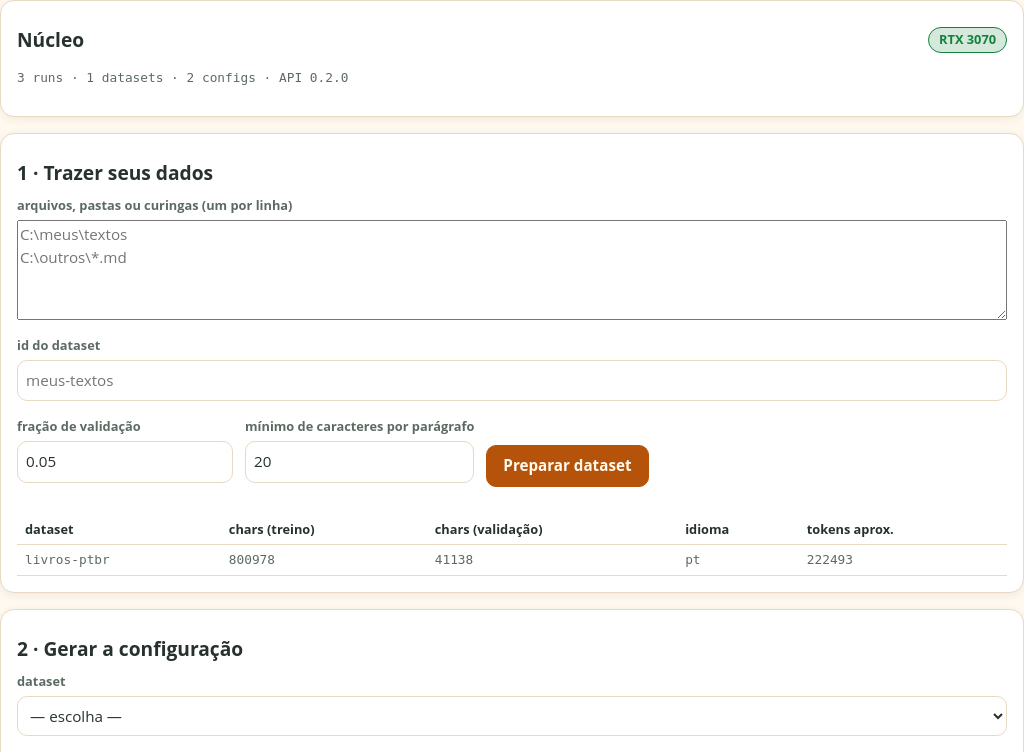
Test: Bancada › exige id e fontes antes de preparar
Step 1. Click the button "Preparar dataset" → coordinates (567, 466), box [486,445,648,487]
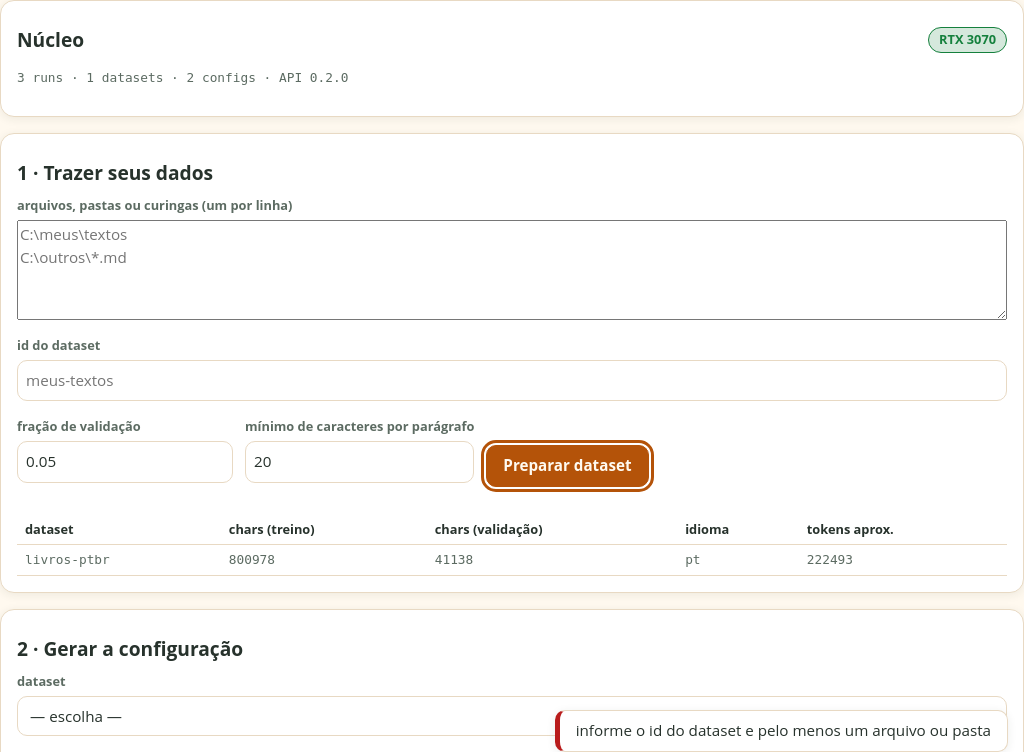
Expected: the message shows "informe o id", [576,720,991,740]
